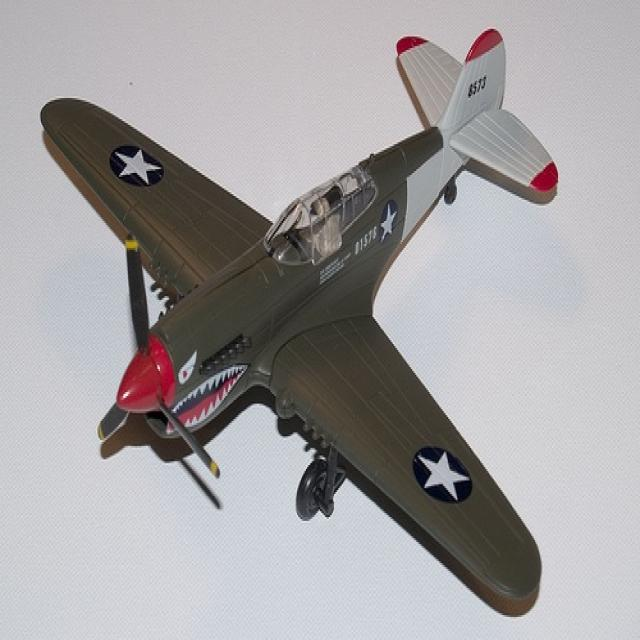aeroplane: (32, 21, 566, 609)
